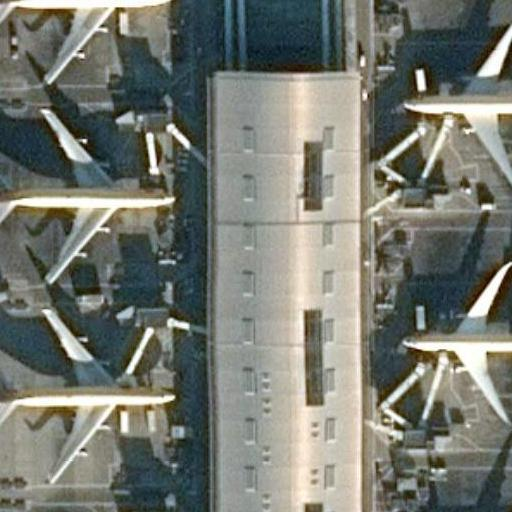Aircraft: (0, 106, 175, 284), (0, 307, 174, 486), (399, 258, 512, 425), (403, 21, 512, 188), (0, 0, 174, 84), (402, 492, 512, 512)
